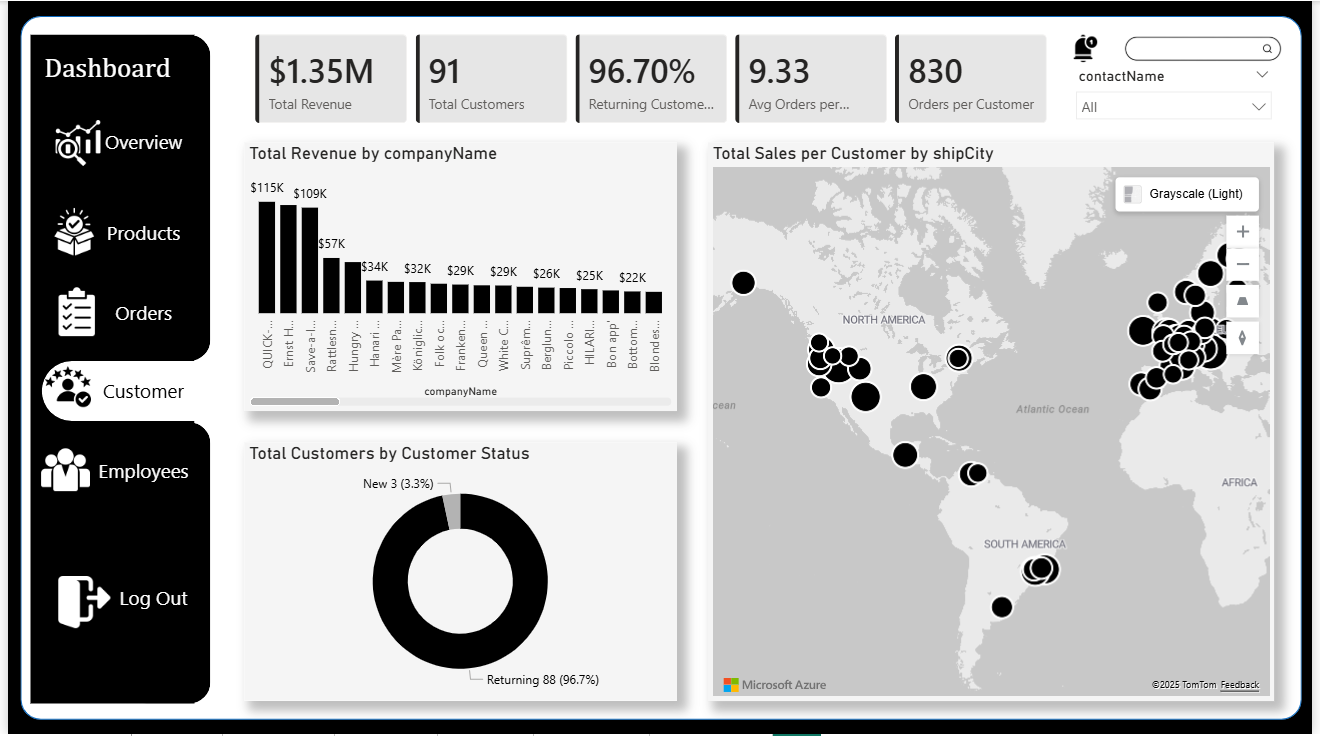

Layout of this report page (visuals, bound fields, positions):
{"tool":"powerbi","page":{"name":"Customer","canvas":[1280,720],"ordinal":4},"visuals":[{"type":"shape","box":[12.3,14.7,1257.7,690.8],"z":0},{"type":"shape","box":[22.1,33.1,160.7,656.4],"z":1000},{"type":"shape","box":[115.3,33.1,83.4,320.2],"z":2000},{"type":"shape","box":[33.1,353.4,300.6,58.9],"z":3000},{"type":"shape","box":[115.3,413.5,83.4,276.1],"z":4000},{"type":"image","box":[1066.3,0,213.5,93.3],"z":5000},{"type":"image","box":[1038,33.1,39.3,27],"z":6000},{"type":"cardVisual","fields":{"Data":["DaxM.Total Revenue","DaxM.Total Customers","Dax c.Returning Customers %","Dax c.Avg Orders per Customer","Dax c.Orders per Customer"]},"box":[225.8,16,812.3,121.5],"z":7000},{"type":"azureMap","fields":{"Category":["Orderdim.shipCity"],"Size":["Dax c.Total Sales per Customer"]},"box":[687.1,138.7,555.8,548.5],"z":8000},{"type":"donutChart","fields":{"Y":["DaxM.Total Customers"],"Category":["Customerdim.Customer Status"]},"box":[231.9,433.1,424.5,254],"z":9000},{"type":"clusteredColumnChart","fields":{"Category":["Customerdim.companyName"],"Y":["DaxM.Total Revenue"]},"box":[231.9,138.7,424.5,263.8],"z":10000},{"type":"image","box":[46.6,114.1,68.7,47.9],"z":11000},{"type":"actionButton","box":[83.4,115.3,99.4,44.2],"z":12000},{"type":"actionButton","box":[83.4,206.1,99.4,40.5],"z":13000},{"type":"actionButton","box":[83.4,284.3,99.4,40.5],"z":14000},{"type":"actionButton","box":[83.4,362.4,99.4,40.5],"z":15000},{"type":"actionButton","box":[83.4,440.5,99.4,40.5],"z":16000},{"type":"image","box":[34.4,115.3,68.7,47.9],"z":17000},{"type":"image","box":[25.2,354.6,68.7,47.9],"z":18000},{"type":"image","box":[22.1,433.1,68.7,47.9],"z":19000},{"type":"image","box":[31.3,202.5,68.7,47.9],"z":20000},{"type":"image","box":[33.1,281,68.7,47.9],"z":21000},{"type":"slicer","fields":{"Values":["Customerdim.contactName"]},"box":[1038,60.1,212.3,61.4],"z":22000},{"type":"textbox","box":[30.7,46.6,152.1,46.6],"z":23000},{"type":"actionButton","box":[93.3,564.4,99.4,40.5],"z":24000},{"type":"image","box":[42.9,564.4,63.8,51.5],"z":25000}]}

Visuals, with their boxes in screenshot pixels (x1, y1, x2, y2), scaled from the page's 1280x720 canvas onto the 1320x736 screenshot:
shape: [13,15,1310,721]
shape: [23,34,189,705]
shape: [119,34,205,361]
shape: [34,361,344,421]
shape: [119,423,205,705]
image: [1100,0,1319,95]
image: [1070,34,1111,61]
cardVisual - DaxM.Total Revenue x DaxM.Total Customers: [233,16,1071,141]
azureMap - Orderdim.shipCity x Dax c.Total Sales per Customer: [709,142,1282,702]
donutChart - DaxM.Total Customers x Customerdim.Customer Status: [239,443,677,702]
clusteredColumnChart - Customerdim.companyName x DaxM.Total Revenue: [239,142,677,411]
image: [48,117,119,166]
actionButton: [86,118,189,163]
actionButton: [86,211,189,252]
actionButton: [86,291,189,332]
actionButton: [86,370,189,412]
actionButton: [86,450,189,492]
image: [35,118,106,167]
image: [26,362,97,411]
image: [23,443,94,492]
image: [32,207,103,256]
image: [34,287,105,336]
slicer - Customerdim.contactName: [1070,61,1289,124]
textbox: [32,48,189,95]
actionButton: [96,577,199,618]
image: [44,577,110,630]
